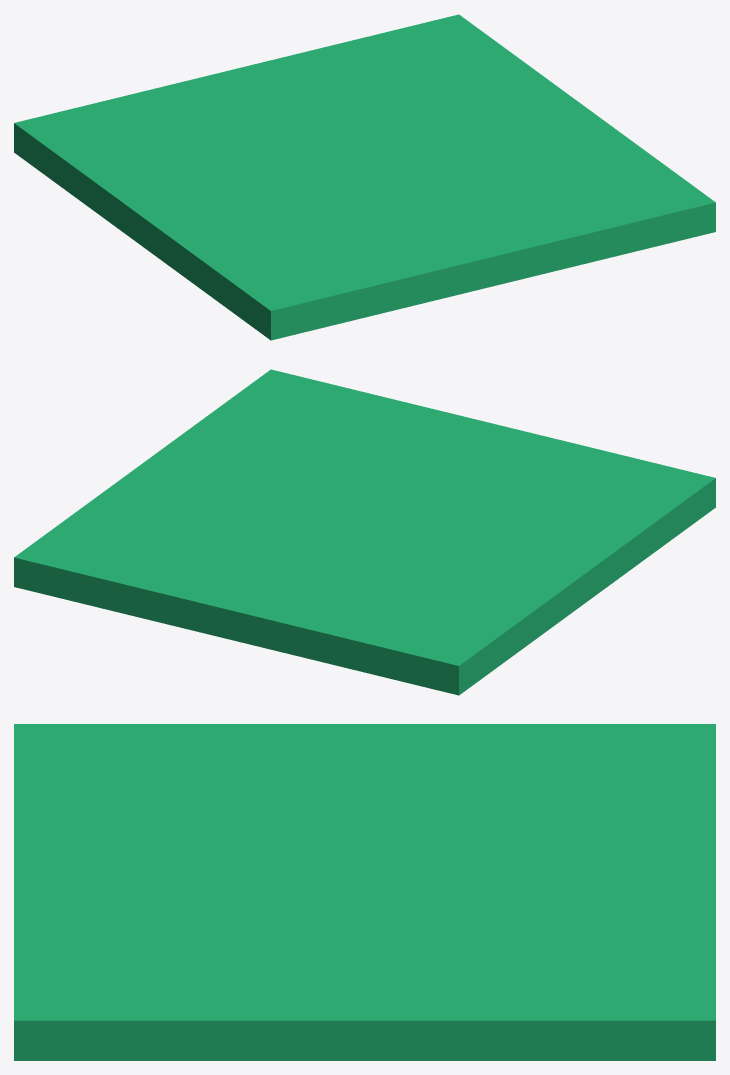
The model's file is Obstaculos triangulares 5.FBX.
3 views of the same model, one above another, from view 1: azimuth 30°, elevation 25°; view 2: azimuth 150°, elevation 25°; view 3: azimuth 270°, elevation 25° (orthographic). The views are drawn at different scales.
Parts seen in each view (by area): view 1: obstacleTriangle; view 2: obstacleTriangle; view 3: obstacleTriangle.
Part boxes in pixels (x1,y1,x2,y2): obstacleTriangle: (14,14,715,340); obstacleTriangle: (14,369,715,695); obstacleTriangle: (14,724,715,1060).
Bounding box in the file's own units: 99.99 × 6.33 × 99.99.
